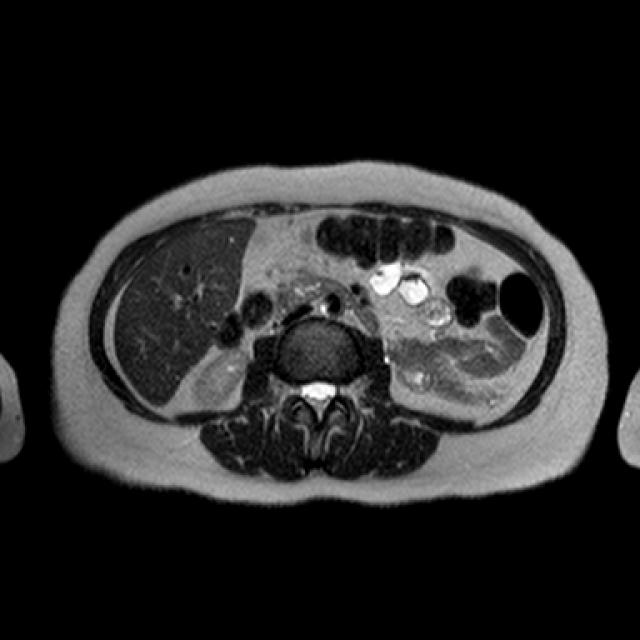sag: (190, 348, 253, 408)
